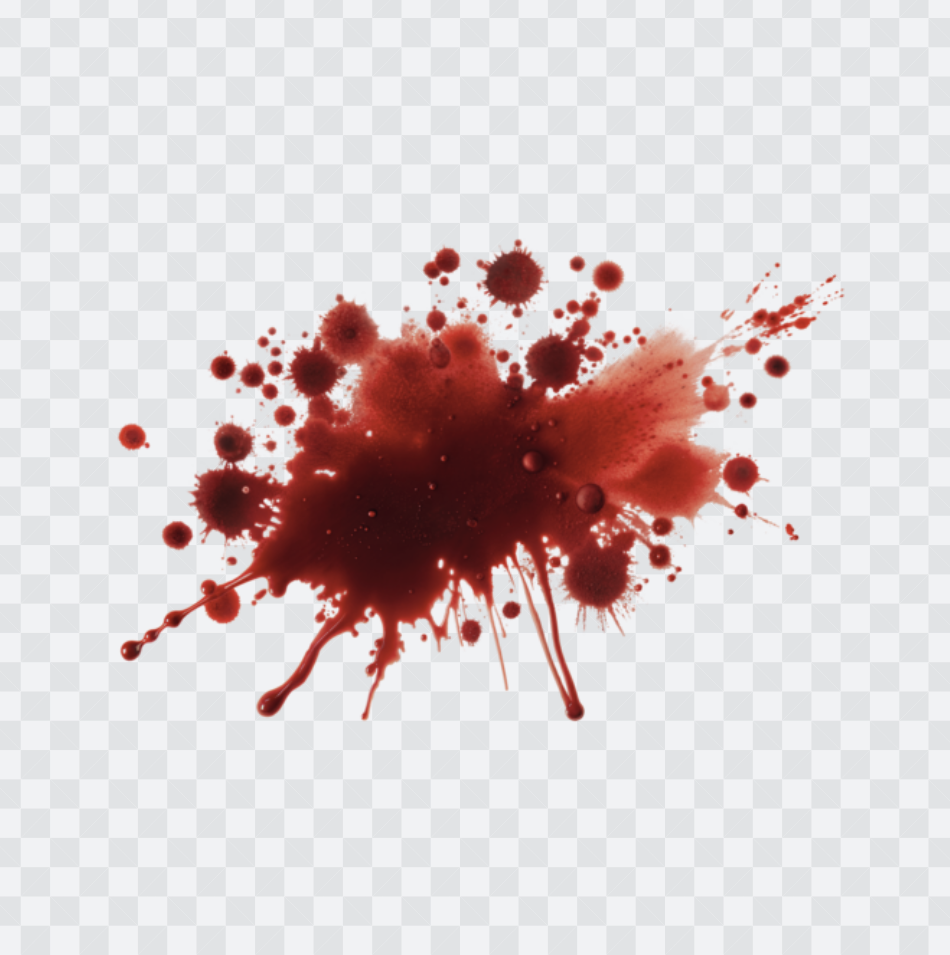blood_4.png: (120, 232, 849, 734)
